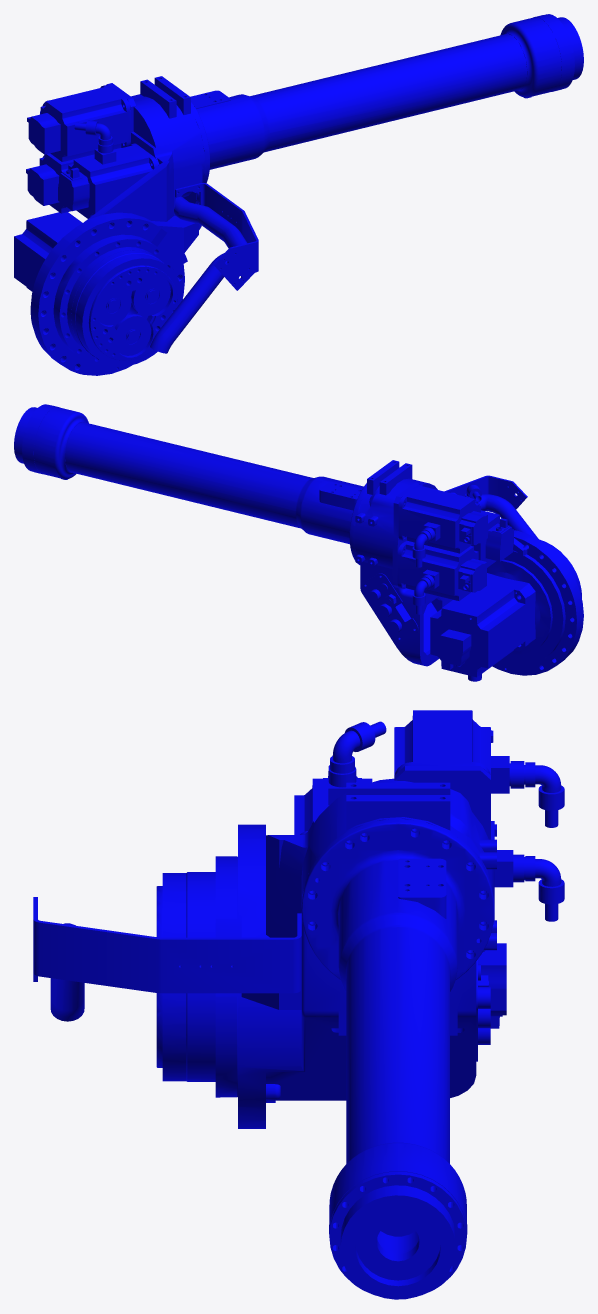
Rendered from es165d_100_U_AXIS.dae.
3 renders of one model, top to bottom at view 1: azimuth 30°, elevation 25°; view 2: azimuth 150°, elevation 25°; view 3: azimuth 270°, elevation 25°, orthographic. The views are drawn at different scales.
Visible parts, largest first — view 1: node; view 2: node; view 3: node.
Boxes of the visible parts, x1=… form: node: x1=14, y1=14, x2=583, y2=375; node: x1=14, y1=404, x2=583, y2=681; node: x1=33, y1=710, x2=564, y2=1299.
Bounding box in the file's own units: 1.6 × 0.7149 × 0.608.
